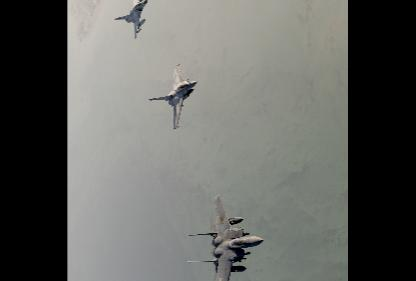F117: (187, 192, 264, 280)
Mirage2000: (114, 0, 148, 39)
RQ4: (148, 62, 197, 128)
